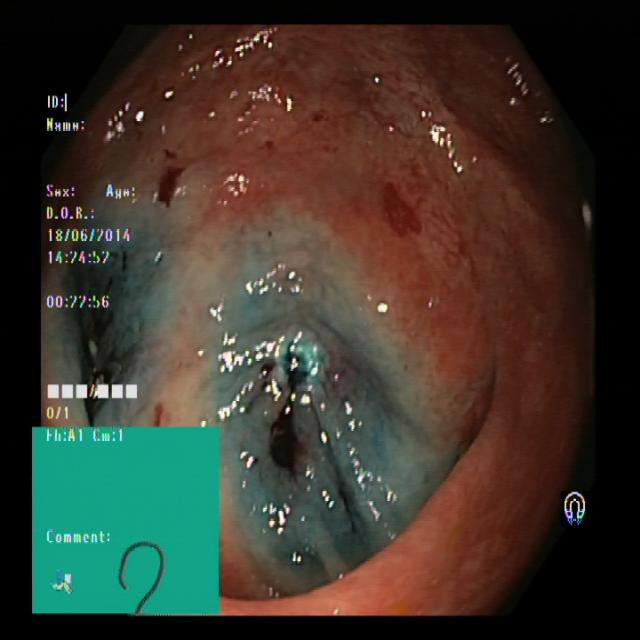dyed-resection-margins: (54, 224, 173, 425), (227, 310, 350, 495), (362, 156, 423, 255), (135, 147, 202, 218)
